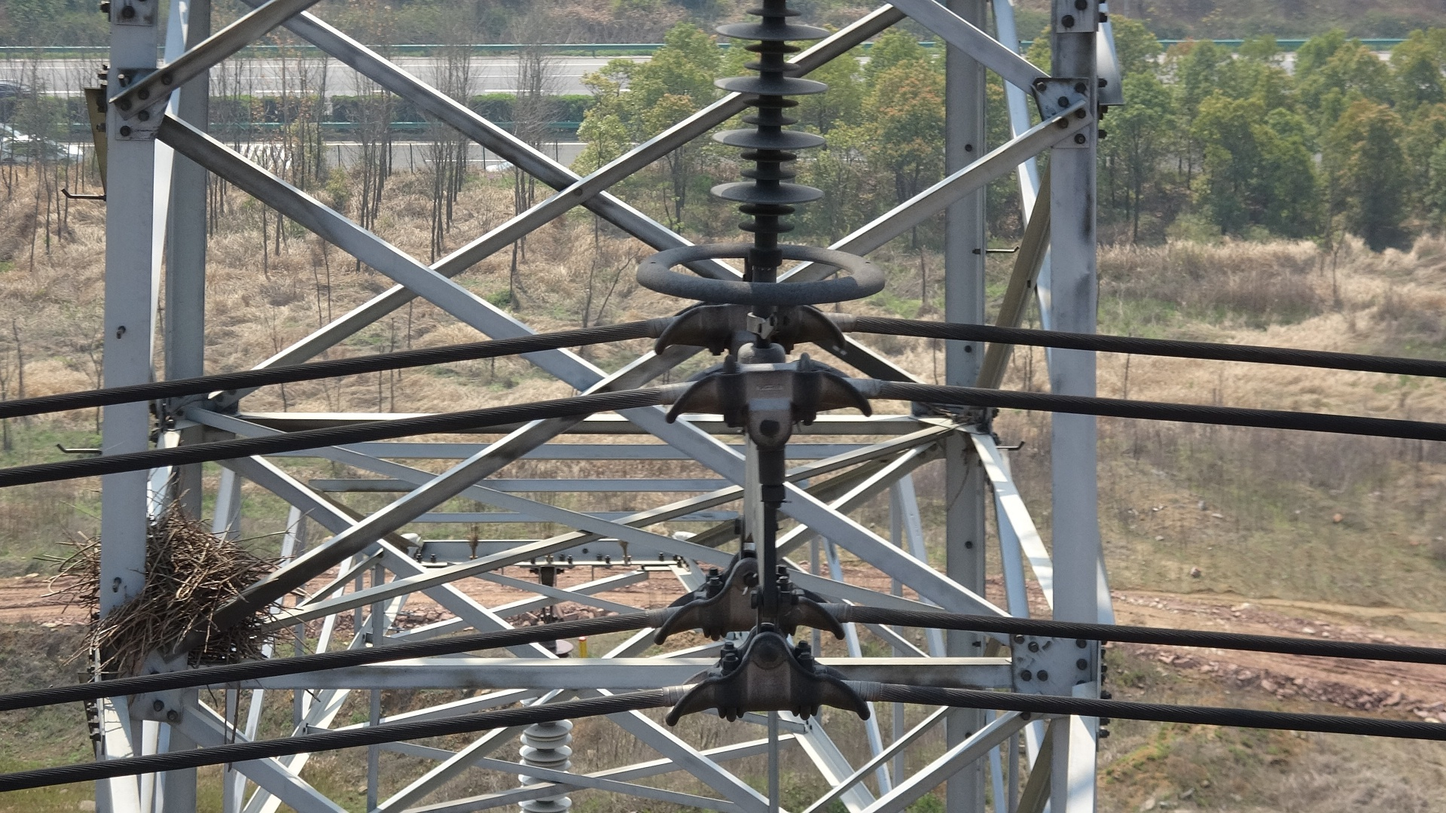insulator: (701, 1, 839, 236), (513, 706, 578, 813)
